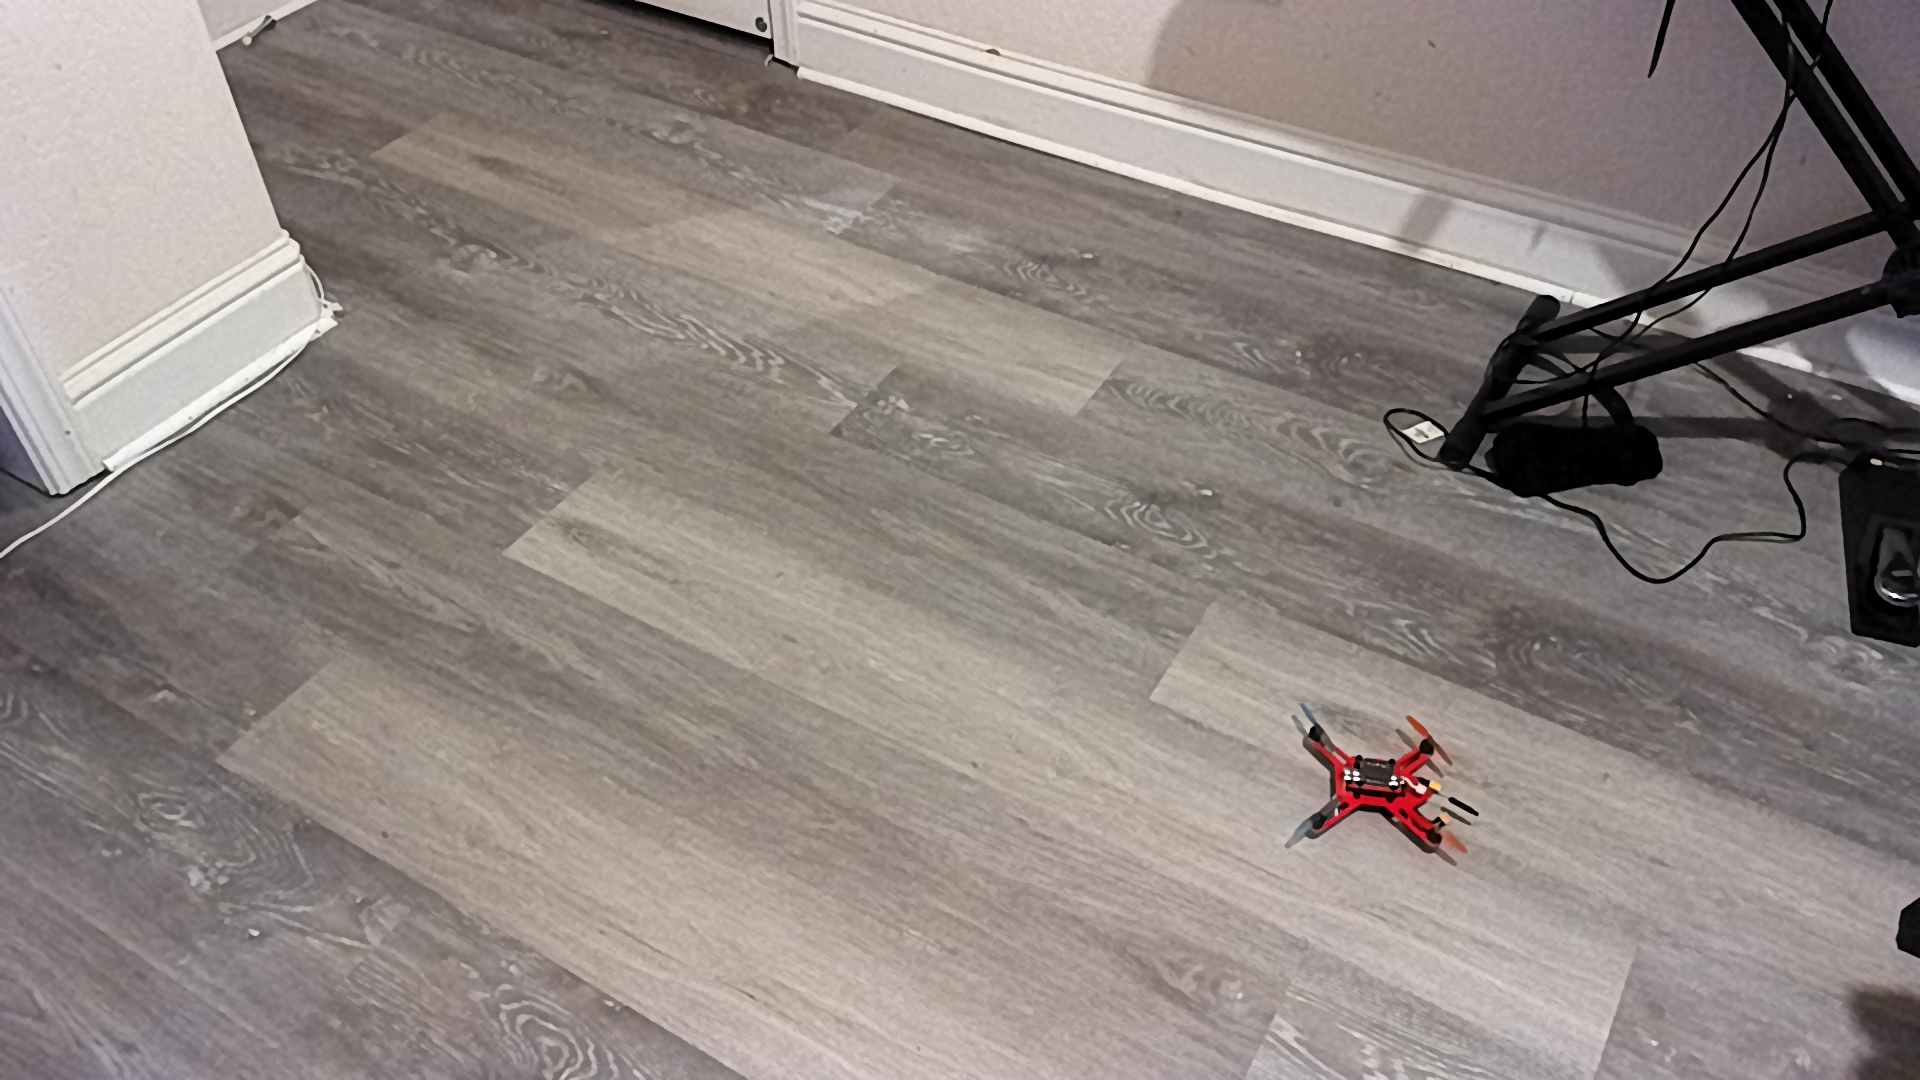drone: (1276, 699, 1490, 878)
